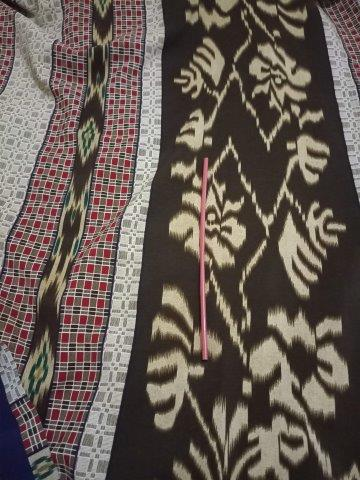sedotan: (199, 158, 207, 359)
